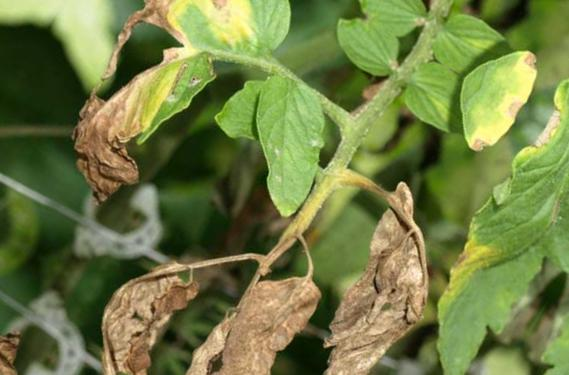Tomato Early blight leaf: (390, 122, 569, 375), (96, 0, 318, 89), (418, 71, 531, 177)
Tomato leaf: (201, 64, 361, 227)
